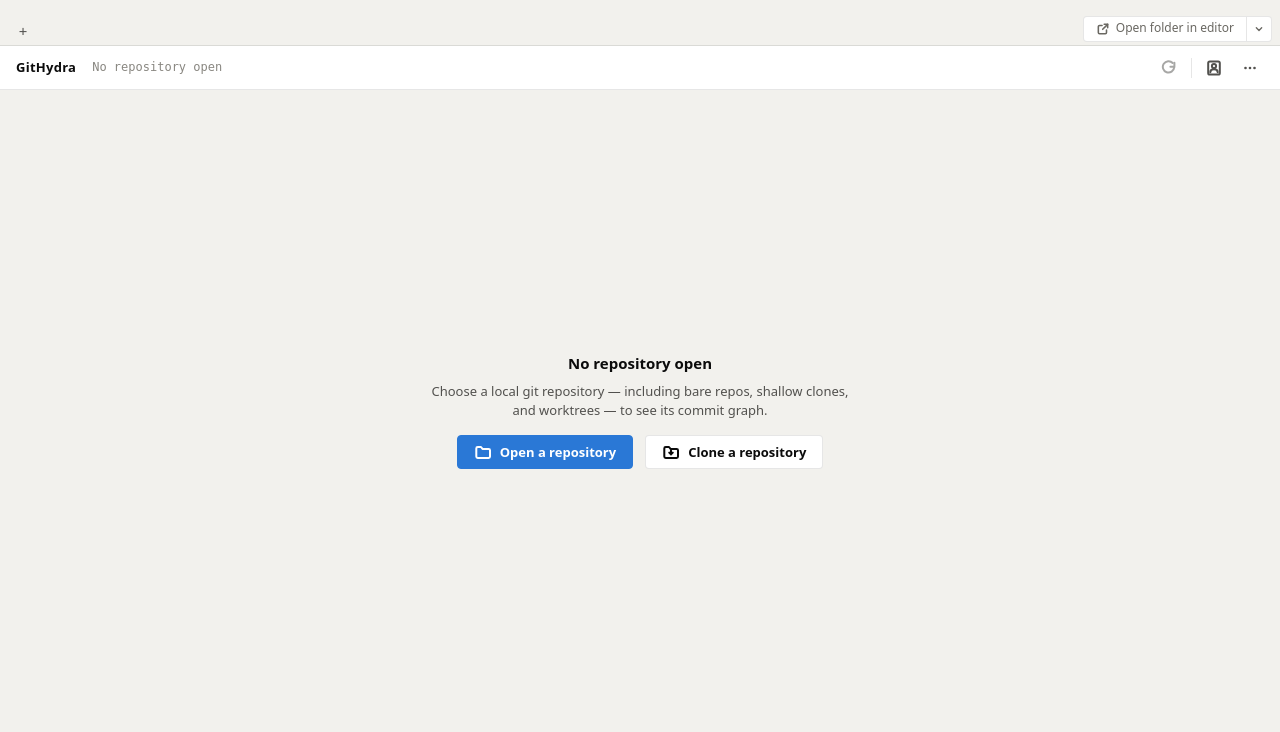
Test: App › does not render an uncommitted-changes pseudo-node for a bare repository (AC5)
The image size is (1280, 732).
What coordinates should you click on to do the following:
click the button "Open a repository"
I would click on:
 (545, 452)
Its box is [457, 435, 633, 469].
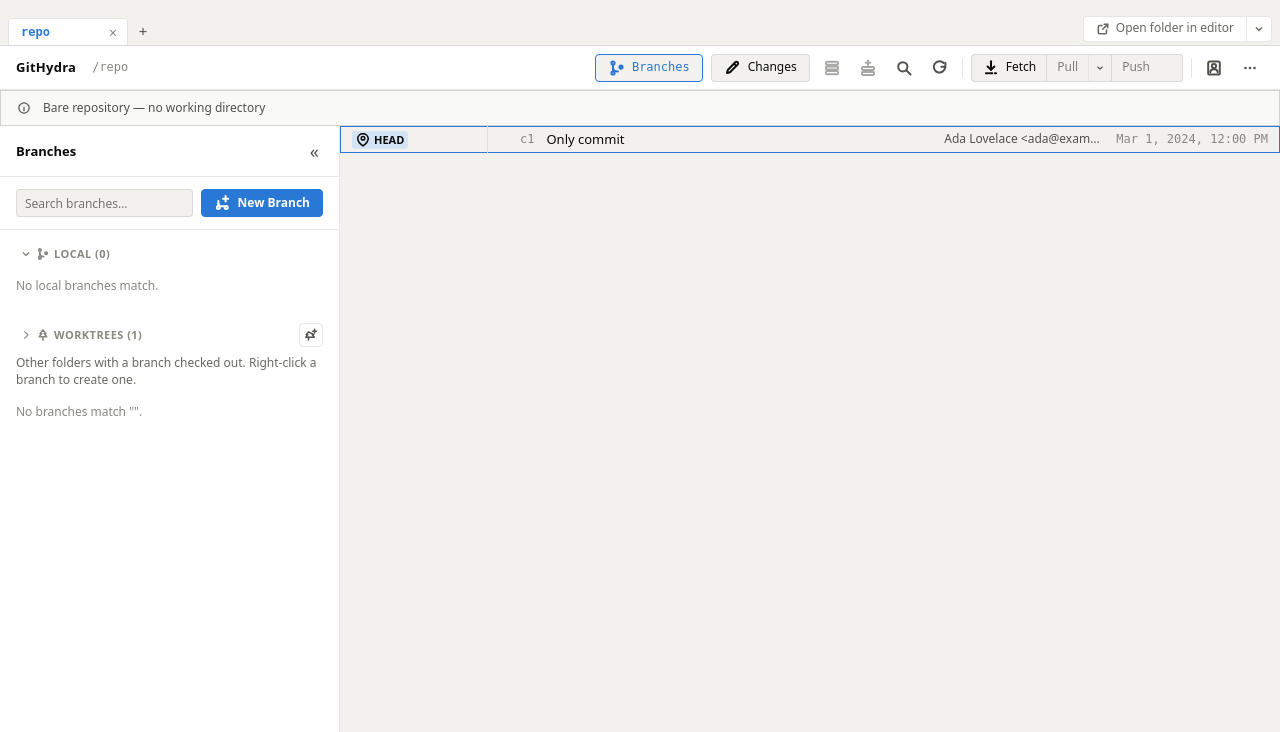
Result: the text "Only commit" is shown at [546, 130, 624, 148]
Result: the text "Bare repository — no working directory" is shown at [0, 90, 1279, 126]
